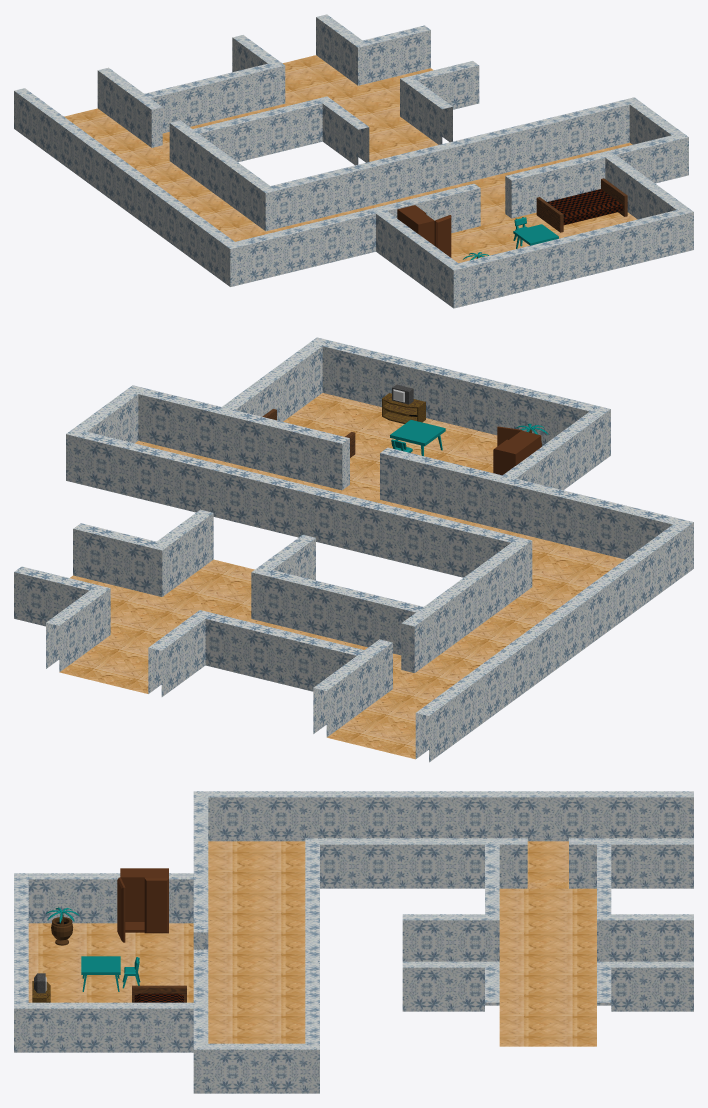
Rendered from Konstruktor.fbx.
3 views of the same model, one above another, from view 1: azimuth 30°, elevation 25°; view 2: azimuth 150°, elevation 25°; view 3: azimuth 270°, elevation 25° (orthographic). The views are drawn at different scales.
Visible parts, largest first — view 1: KKW, KUW, KTW, W, KPW, KT, Dow.3, Rum, WDoor.2, Dow.5, Dow, Bad (+7 smaller); view 2: KKW, KUW, KTW, KPW, W, KT, Dow.3, Rum, WDoor.2, Dow.5, Dow, Dow.6 (+6 smaller); view 3: KKW, KTW, KUW, Rum, Dow.3, Dow.8, Dow, Dow.6, KT, Dow.5, W.2, WDoor (+10 smaller).
Part boxes in pixels (x1,y1,x2,y2): KKW: (206, 14, 479, 165); KUW: (140, 160, 386, 286); KTW: (14, 67, 260, 220); W: (447, 207, 693, 308); KPW: (333, 117, 605, 233); KT: (551, 97, 688, 183); Dow.3: (213, 55, 438, 161); Rum: (376, 155, 686, 303); WDoor.2: (405, 135, 532, 230); Dow.5: (64, 108, 223, 208); Dow: (451, 212, 637, 263); Bad: (536, 178, 627, 232); KKW: (14, 509, 347, 696); KUW: (435, 475, 693, 649); KTW: (281, 575, 583, 762); KPW: (168, 410, 501, 570); W: (309, 337, 610, 460); KT: (66, 385, 234, 505); Dow.3: (59, 559, 339, 693); Rum: (222, 343, 603, 490); WDoor.2: (257, 432, 412, 548); Dow.5: (327, 625, 521, 759); Dow: (283, 393, 497, 491); Dow.6: (481, 528, 624, 634); KKW: (402, 879, 693, 1011); KTW: (402, 791, 693, 888); KUW: (193, 791, 402, 888); Rum: (28, 873, 193, 1052); Dow.3: (499, 923, 596, 1046); Dow.8: (208, 923, 305, 1043); Dow: (28, 923, 193, 1002); Dow.6: (208, 841, 305, 923); KT: (193, 1002, 319, 1093); Dow.5: (499, 841, 596, 923); W.2: (499, 791, 596, 841); WDoor: (499, 838, 596, 888).
Bounding box in the file's own units: 2520 × 251 × 2800.
